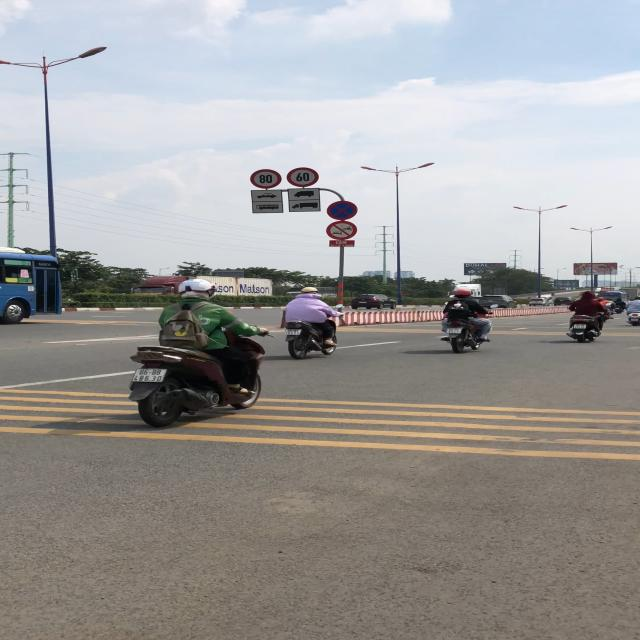Bien bao cam dung xe va do xe: (326, 200, 361, 220)
Bien bao toc do toi da cho phep: (285, 166, 321, 188), (248, 168, 282, 190)
